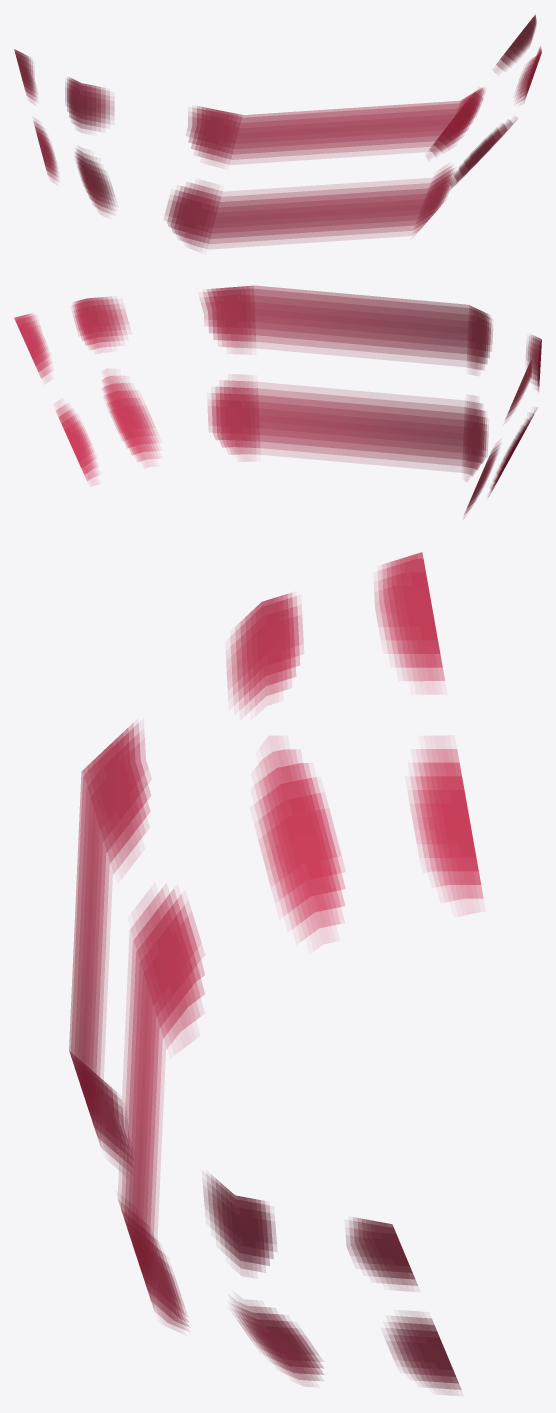
3 renders of one model, top to bottom at view 1: azimuth 30°, elevation 25°; view 2: azimuth 150°, elevation 25°; view 3: azimuth 270°, elevation 25°, orthographic. The views are drawn at different scales.
Visible parts, largest first — view 1: ef_400; view 2: ef_400; view 3: ef_400.
Part boxes in pixels (x1,y1,x2,y2): ef_400: (14,14,541,250); ef_400: (14,285,541,517); ef_400: (69,552,483,1395).
Size of the model in its own units: 0.7299 by 0.3073 by 0.257.
1 material, 1 textured.
